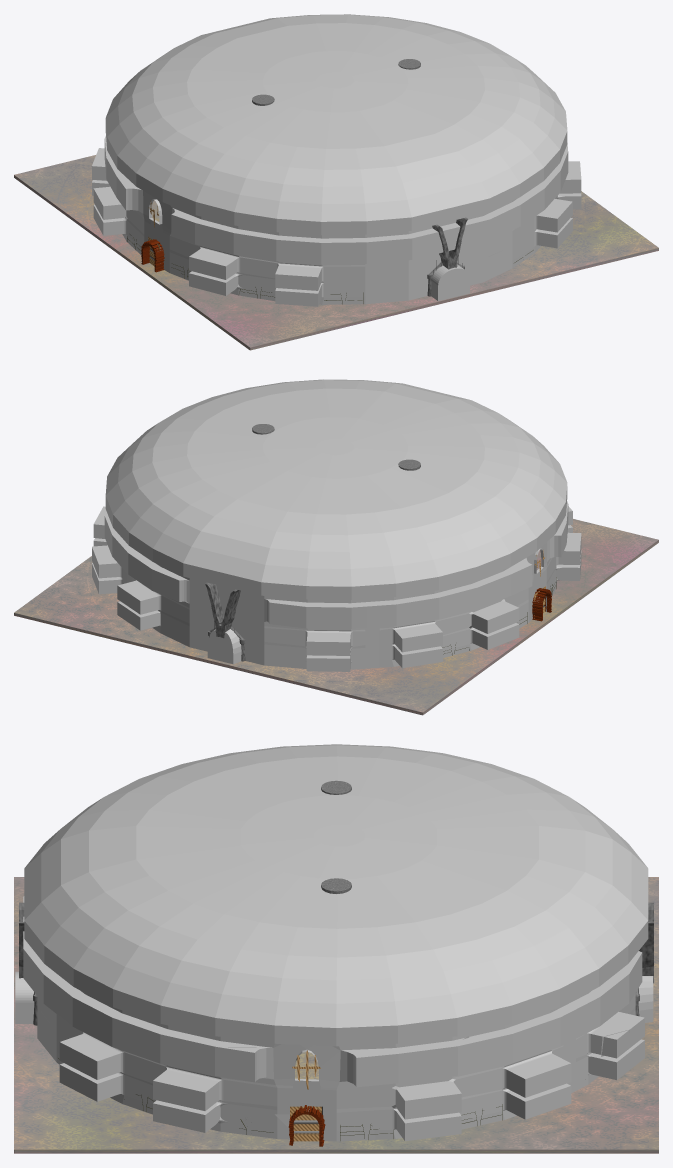
File: Burial_ChambersTest1.fbx
3 views of the same model, one above another, from view 1: azimuth 30°, elevation 25°; view 2: azimuth 150°, elevation 25°; view 3: azimuth 270°, elevation 25° (orthographic). The views are drawn at different scales.
Visible parts, largest first — view 1: Arena_geo, Floor_geo, Gates_Back_geo, Brick_L_geo; view 2: Arena_geo, Floor_geo, Gates_Front_geo, Brick_L_geo; view 3: Arena_geo, Floor_geo, Gates_Front_geo, Door_R_geo.
Boxes of the visible parts, left/top/right/bottom form: Arena_geo: left=92, top=14, right=581, bottom=306; Floor_geo: left=14, top=155, right=658, bottom=350; Gates_Back_geo: left=427, top=217, right=467, bottom=296; Brick_L_geo: left=141, top=239, right=164, bottom=272; Arena_geo: left=92, top=379, right=581, bottom=671; Floor_geo: left=14, top=519, right=658, bottom=715; Gates_Front_geo: left=205, top=582, right=245, bottom=661; Brick_L_geo: left=532, top=588, right=551, bottom=621; Arena_geo: left=15, top=744, right=653, bottom=1141; Floor_geo: left=14, top=877, right=658, bottom=1153; Gates_Front_geo: left=635, top=902, right=653, bottom=1016; Door_R_geo: left=290, top=1106, right=322, bottom=1141.
Bounding box in the file's own units: 4606 × 1442 × 4528.
